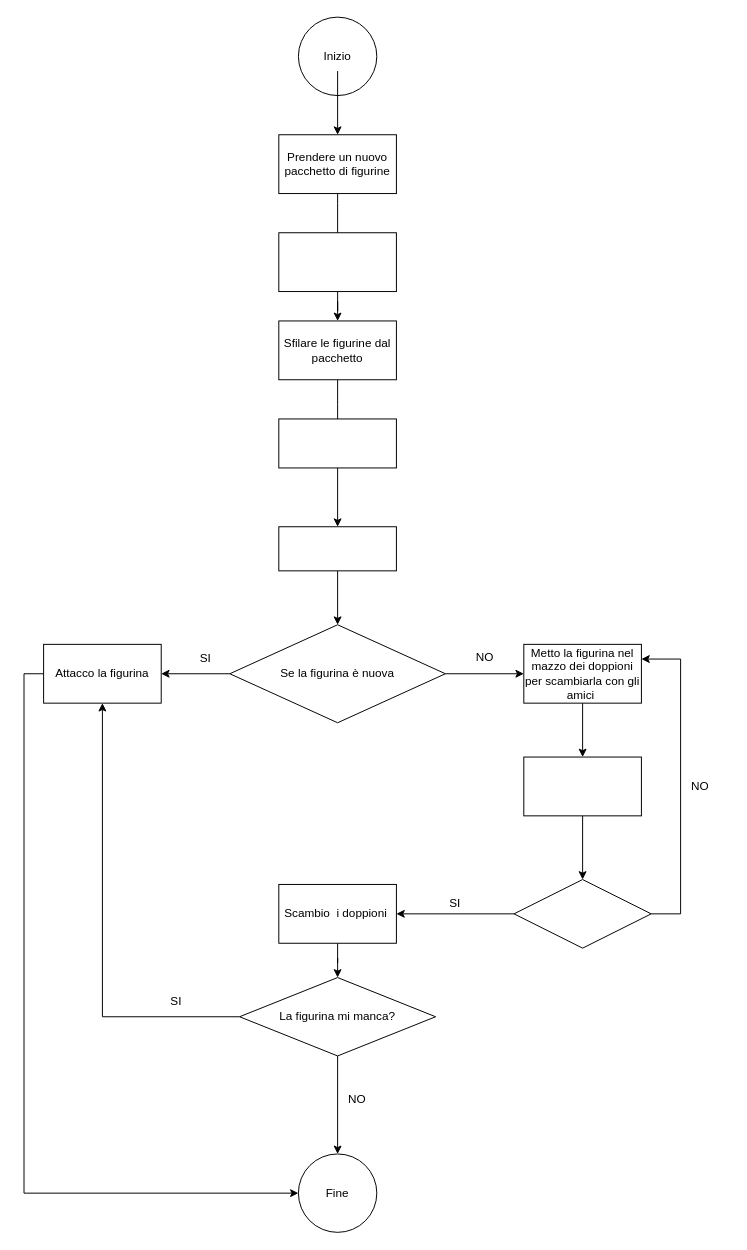
This 747x1250 diagram has some shape labels left out. The centre of each missing label's shape, as x and y in pixels:
"Aprire il pacchetto" belongs at point 337,262.
"Controllare tutte le figurine una ad una" belongs at point 337,443.
"Lo scambio di figurine con gli amici avverrà sabato" belongs at point 582,786.
"Oggi è sabato?" belongs at point 582,913.
"Verificare album" belongs at point 337,548.
